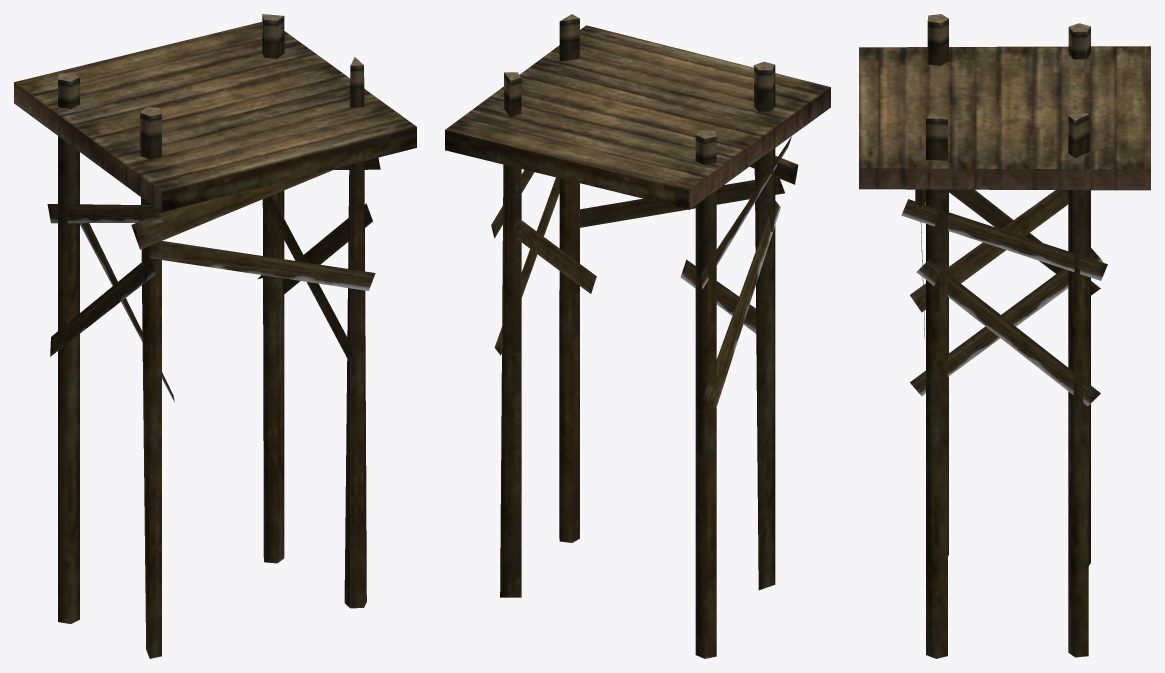
Rendered from nsm-general_obj_01_4_lod_01.glb.
The picture shows the model from 3 angles, left to right: view 1: azimuth 30°, elevation 25°; view 2: azimuth 150°, elevation 25°; view 3: azimuth 270°, elevation 25°; orthographic projection. The views are drawn at different scales.
Visible parts, largest first — view 1: Mesh03; view 2: Mesh03; view 3: Mesh03.
Part boxes in pixels (<box>): Mesh03: <box>14,14,416,658</box>; Mesh03: <box>445,14,830,658</box>; Mesh03: <box>859,14,1150,658</box>.
Bounding box in the file's own units: 5 × 10.44 × 5.
Materials: 1 (1 with a texture image).
